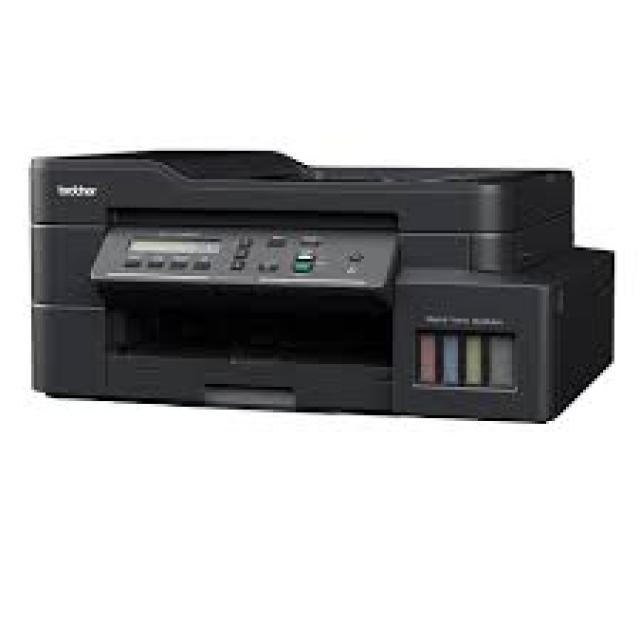printer: (26, 145, 614, 424)
